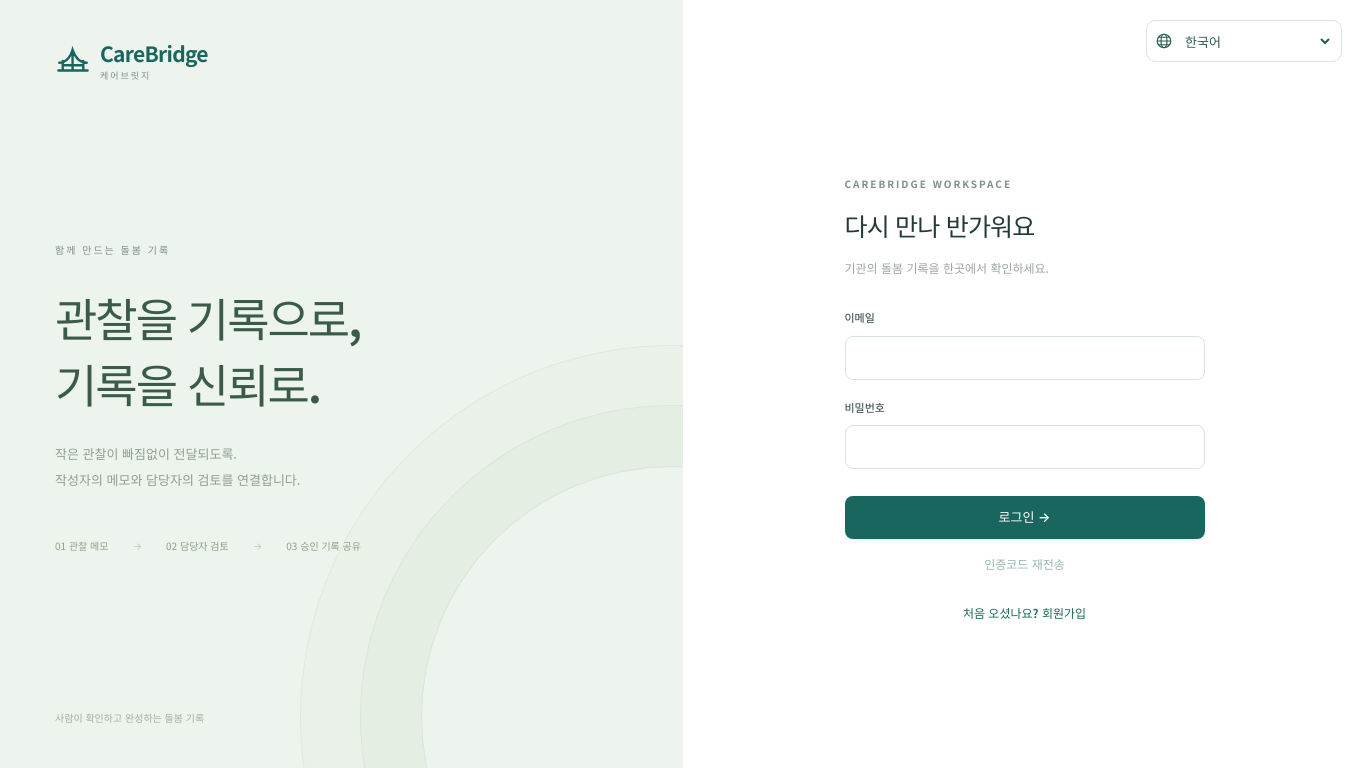
Test case: ordinary users never receive a role selector in settings
Type "author" into the field labelled "이메일".
click(1024, 358); type("author")  # box [844,336,1204,380]
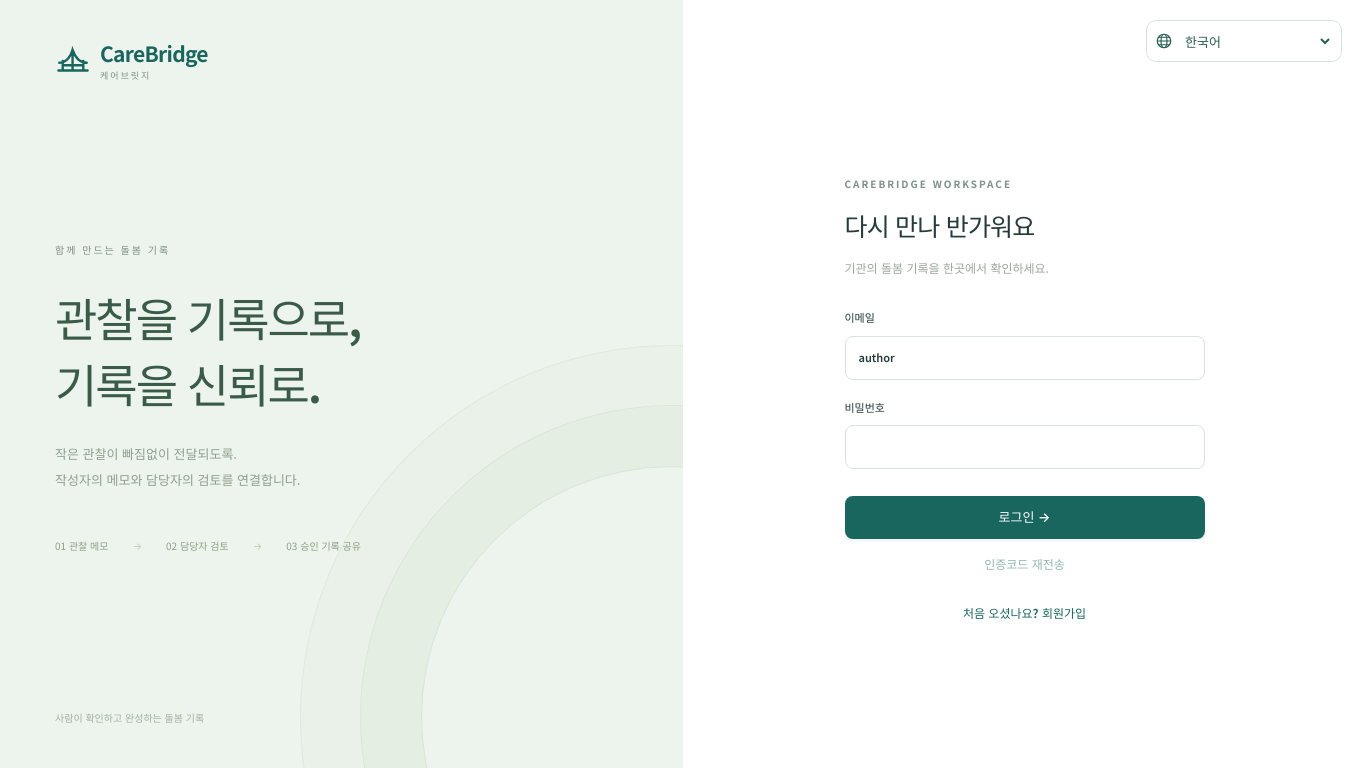
Type "demo" into the password field labelled "비밀번호".
click(1024, 447); type("demo")  # box [844,425,1204,469]
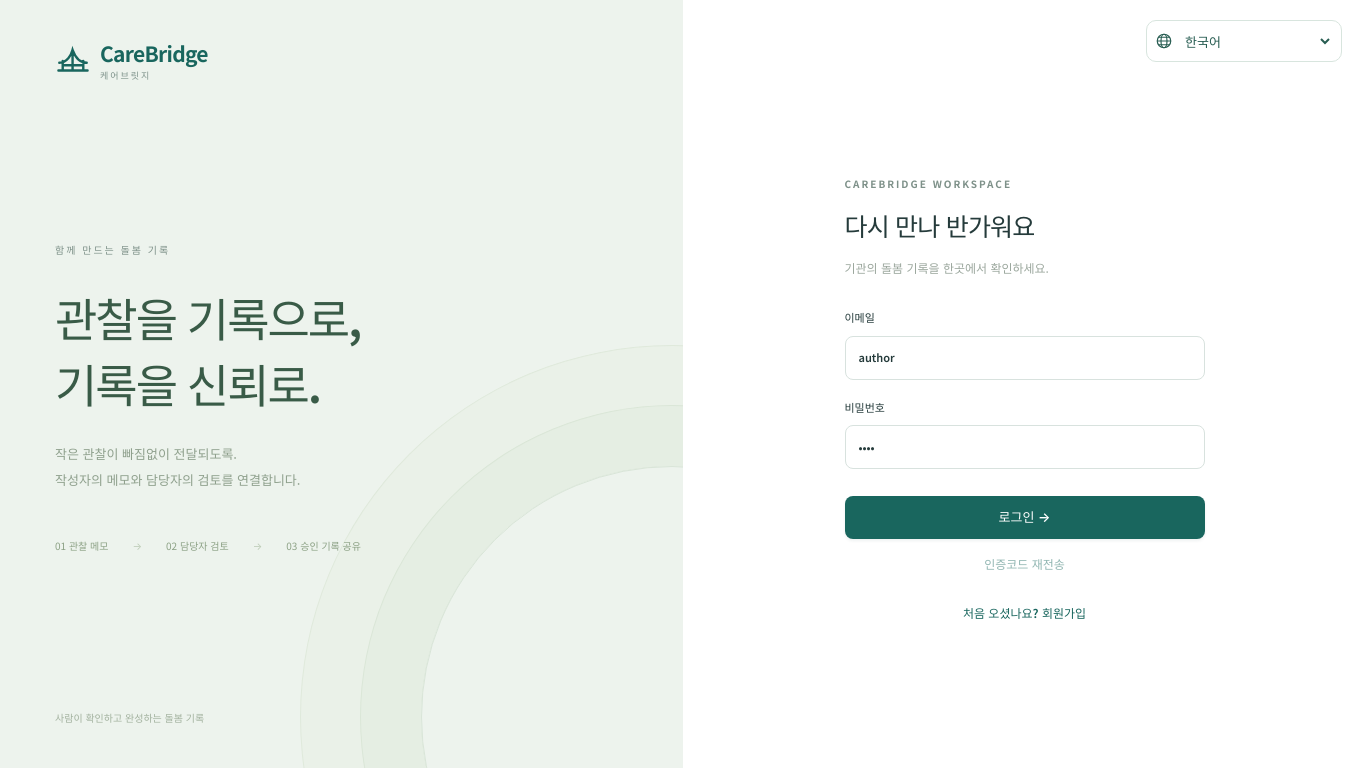
Click the button "로그인 →".
click(1024, 518)  # box [844,496,1204,539]
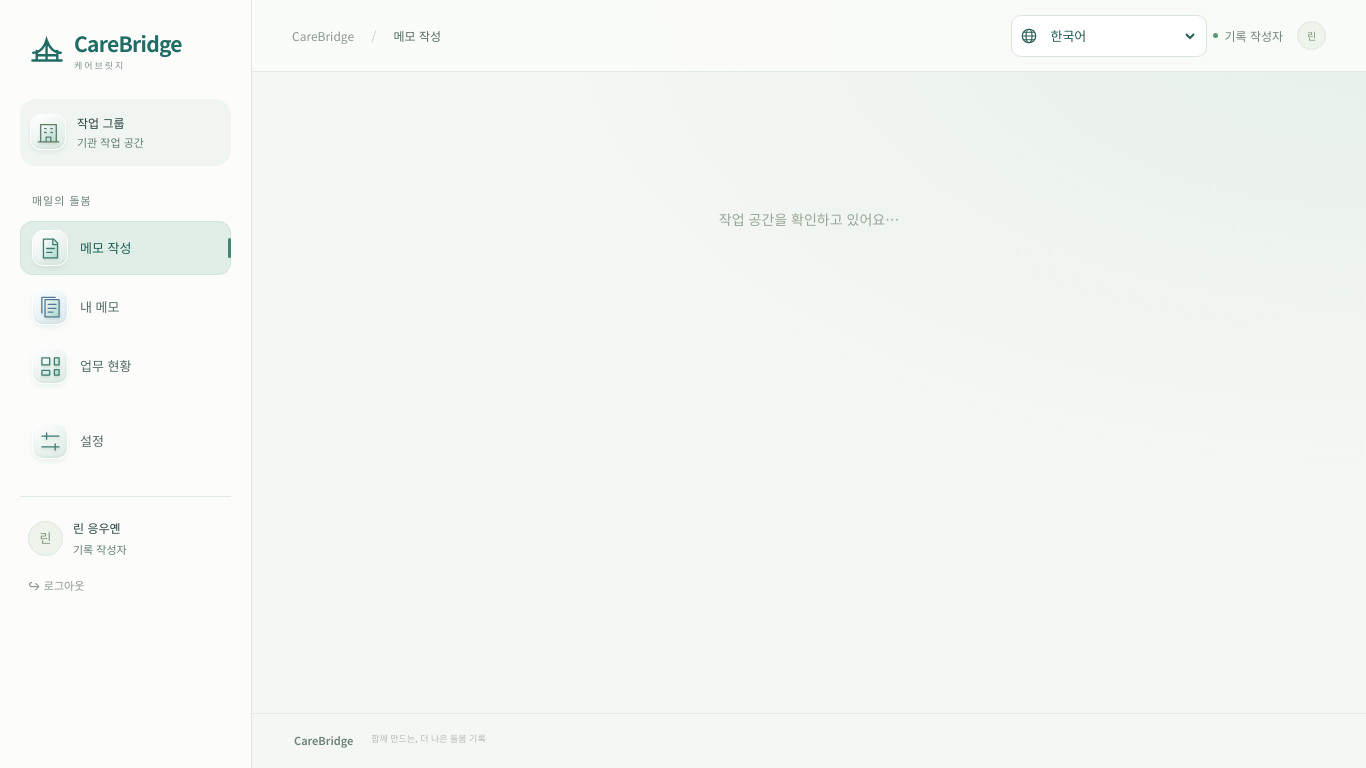
Check: the navigation bar named "주 메뉴" is shown, box [20,221,231,468]
Click the button "설정".
click(126, 441)  # box [20,414,231,468]
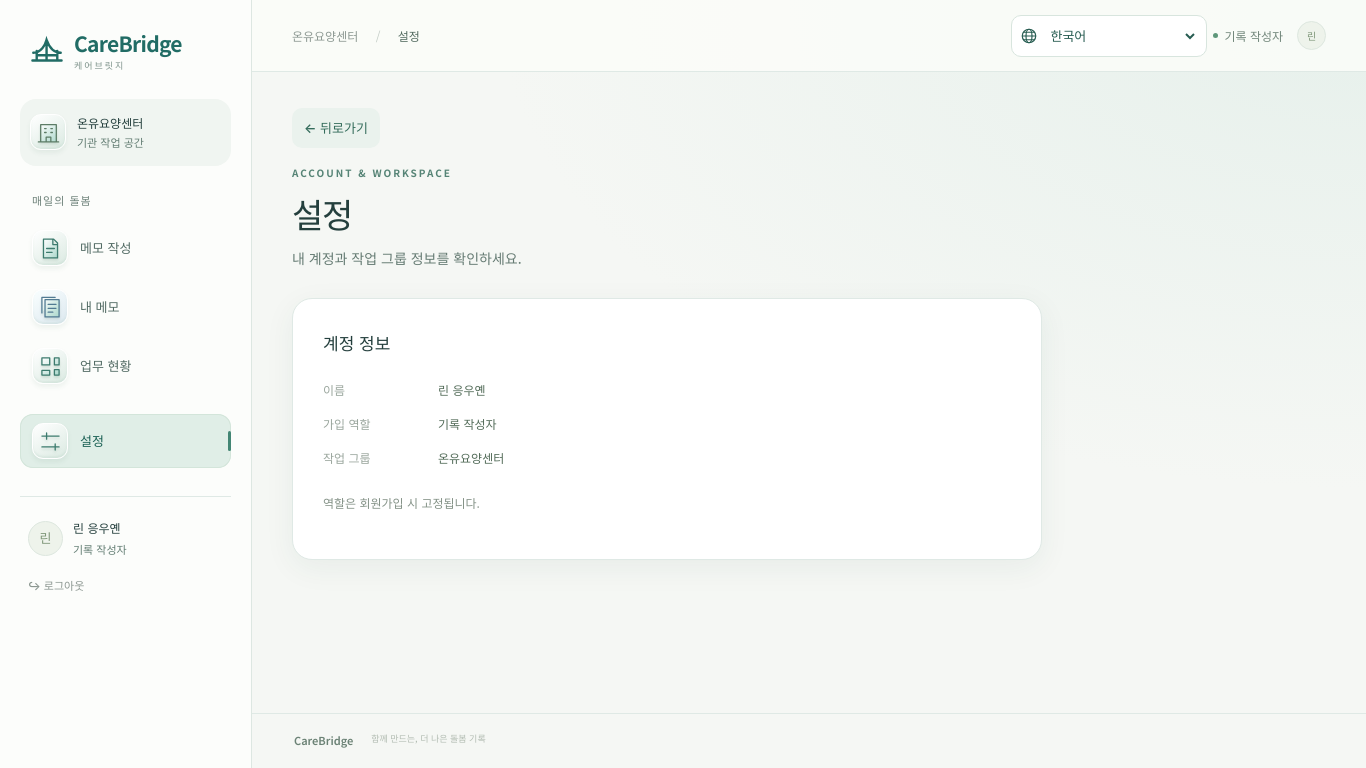
Check: the heading "계정 정보" is shown, box [323,330,390,355]
